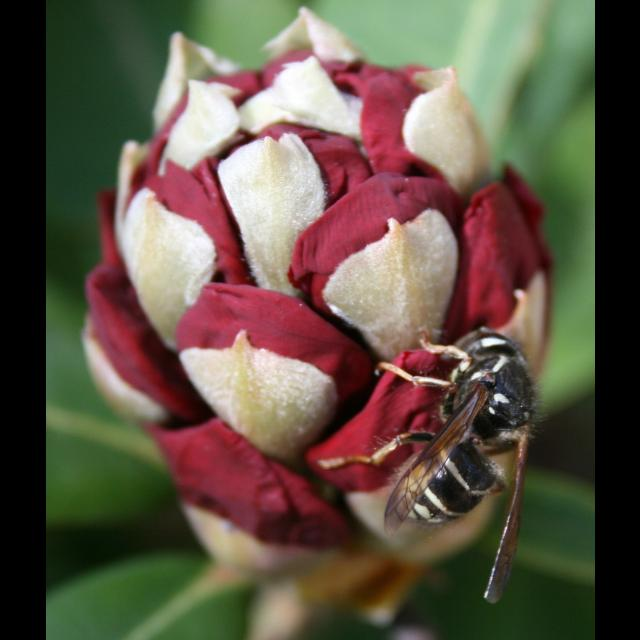Flower: (66, 1, 564, 639)
